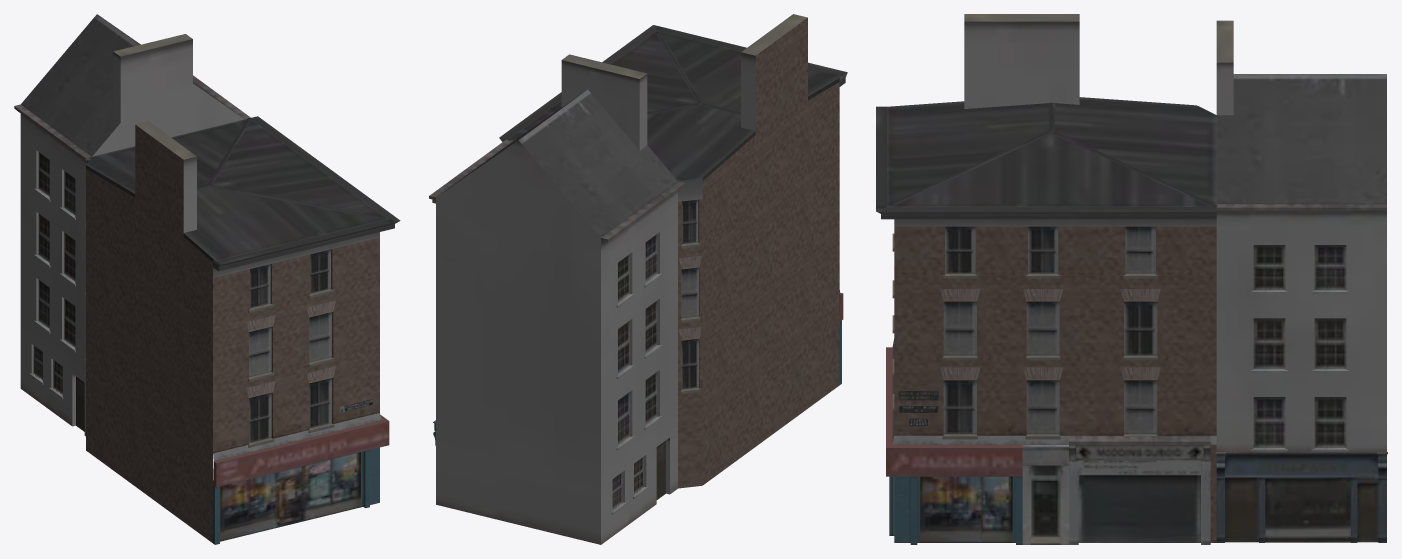
File: shop-a.glb
The picture shows the model from 3 angles, left to right: view 1: azimuth 30°, elevation 25°; view 2: azimuth 150°, elevation 25°; view 3: azimuth 270°, elevation 25°; orthographic projection. The views are drawn at different scales.
Visible parts, largest first — view 1: Plane_2_0; view 2: Plane_2_0; view 3: Plane_2_0.
Boxes of the visible parts, x1=… form: Plane_2_0: x1=14, y1=14, x2=400, y2=544; Plane_2_0: x1=429, y1=14, x2=847, y2=544; Plane_2_0: x1=876, y1=14, x2=1387, y2=544.
Bounding box in the file's own units: 7.55 × 15.11 × 15.58.
1 material, 1 textured.
